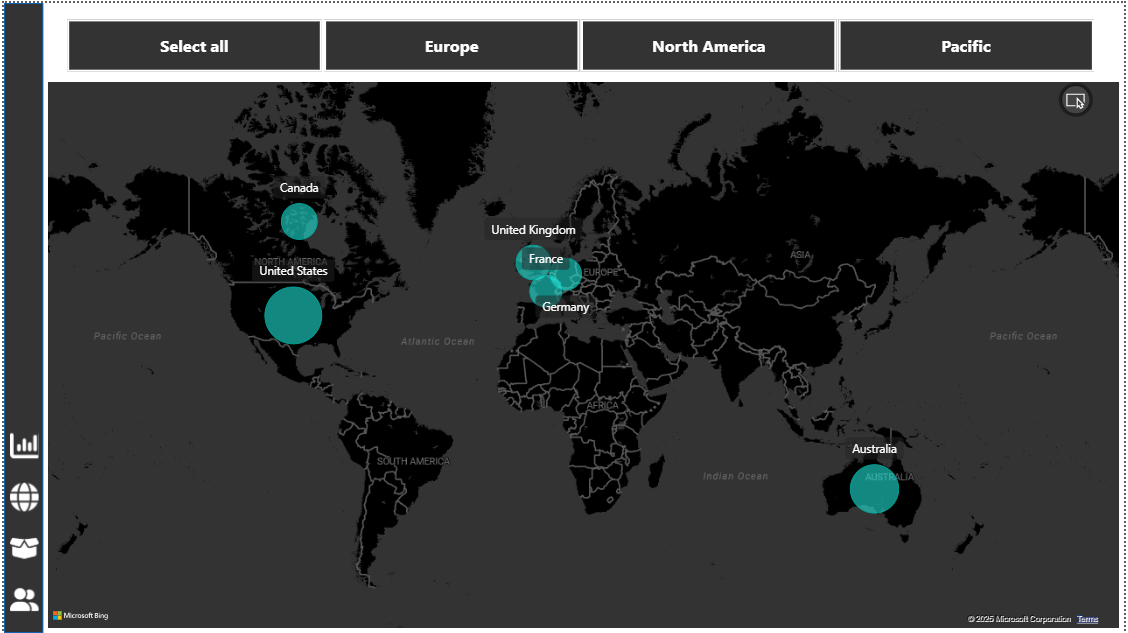

Layout of this report page (visuals, bound fields, positions):
{"tool":"powerbi","page":{"name":"Map","canvas":[1280,720],"ordinal":1},"visuals":[{"type":"shape","box":[0,0,45,720],"z":0},{"type":"map","fields":{"Category":["Territory Lookup.Country"],"Size":["Mesures Table.Total Orders"]},"box":[45.5,86.3,1234.5,634],"z":1000},{"type":"actionButton","box":[2.4,544.1,43.1,40.7],"z":1000,"group":"g1"},{"type":"slicer","fields":{"Values":["Territory Lookup.Continent"]},"box":[45.5,12,1223.7,74.3],"z":2000},{"type":"actionButton","box":[2.4,602.9,43.1,40.7],"z":2000,"group":"g1"},{"type":"group","id":"g1","title":"Navigation Buttons","box":[2.4,485.4,43.1,216.9],"z":3000},{"type":"actionButton","box":[2.4,661.6,43.1,40.7],"z":3000,"group":"g1"},{"type":"actionButton","box":[2.4,485.4,43.1,40.7],"z":4000,"group":"g1"}]}

Visuals, with their boxes in screenshot pixels (x1, y1, x2, y2):
shape: Rect(3, 6, 42, 629)
map - Territory Lookup.Country x Mesures Table.Total Orders: Rect(42, 81, 1110, 629)
actionButton: Rect(5, 477, 42, 512)
slicer - Territory Lookup.Continent: Rect(42, 16, 1101, 81)
actionButton: Rect(5, 527, 42, 563)
"Navigation Buttons" group: Rect(5, 426, 42, 613)
actionButton: Rect(5, 578, 42, 613)
actionButton: Rect(5, 426, 42, 461)
